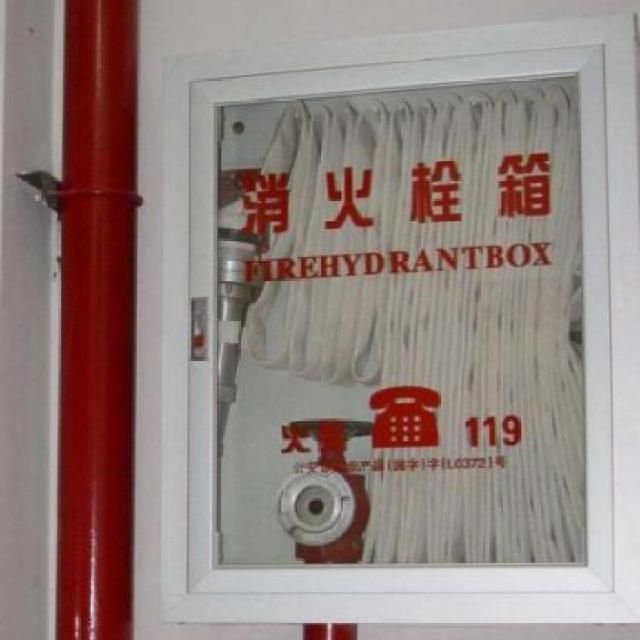firehydrant: (154, 6, 640, 630)
